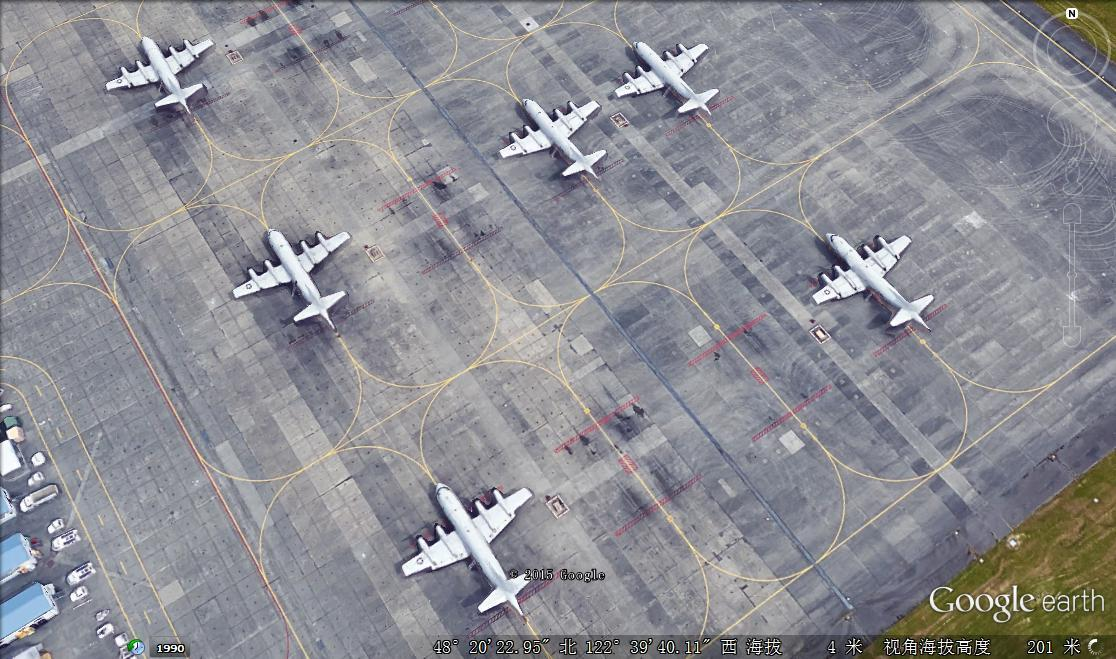P-3C: (390, 478, 544, 624), (227, 225, 357, 328), (809, 225, 933, 332), (497, 89, 609, 185), (97, 32, 221, 114), (609, 32, 722, 117)
